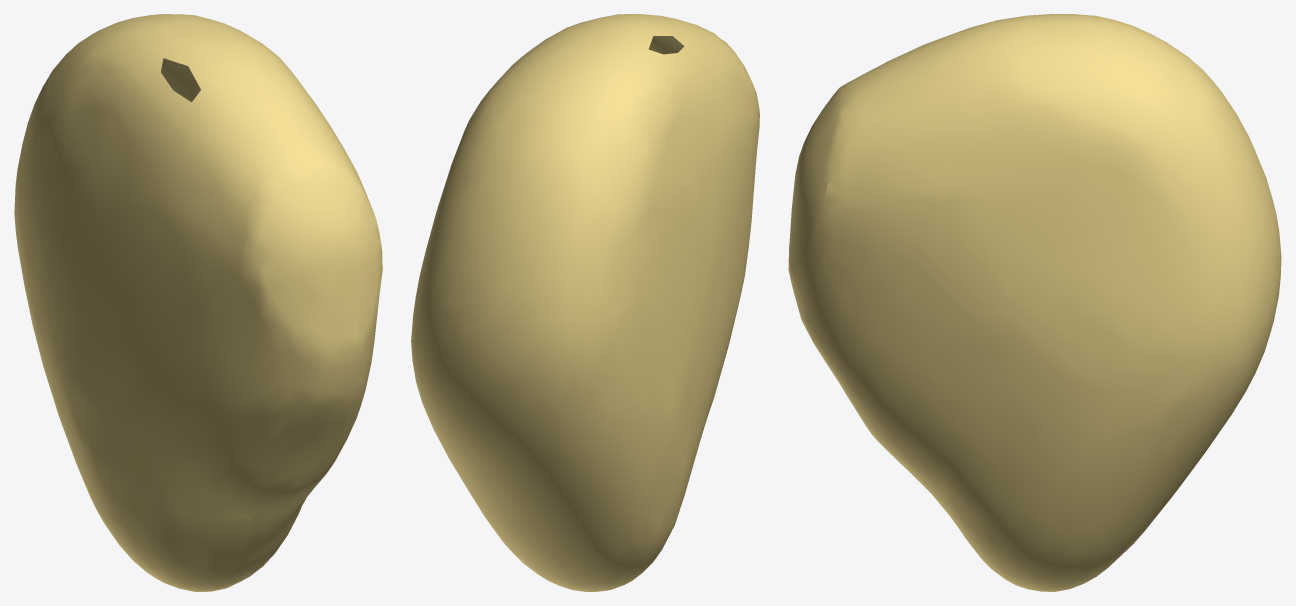
3 renders of one model, left to right at view 1: azimuth 30°, elevation 25°; view 2: azimuth 150°, elevation 25°; view 3: azimuth 270°, elevation 25°, orthographic.
Visible parts, largest first — view 1: ZA_4a10a12add5922cd; view 2: ZA_4a10a12add5922cd; view 3: ZA_4a10a12add5922cd.
Boxes of the visible parts, left/top/right/bottom form: ZA_4a10a12add5922cd: left=14, top=14, right=382, bottom=591; ZA_4a10a12add5922cd: left=411, top=14, right=759, bottom=591; ZA_4a10a12add5922cd: left=788, top=14, right=1281, bottom=591.
Bounding box in the file's own units: 0.0104 × 0.0239 × 0.0193.
